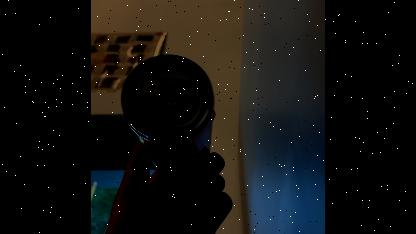Can: (120, 48, 221, 186)
